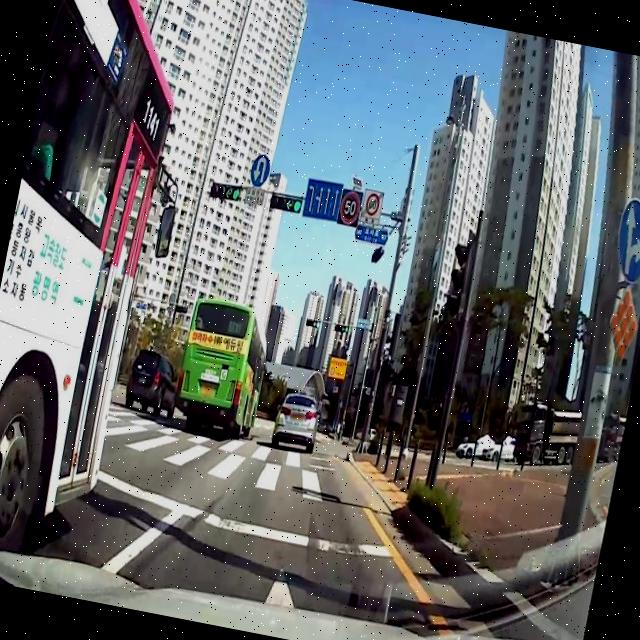crosswalk: (102, 403, 342, 509)
